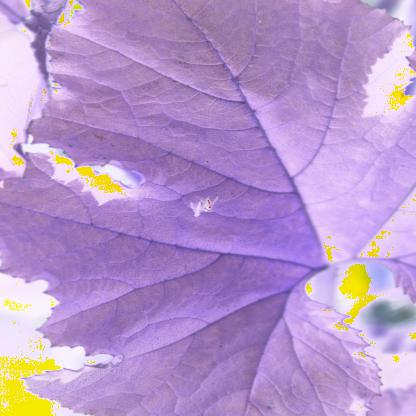tomato leaf: (0, 9, 416, 260)
